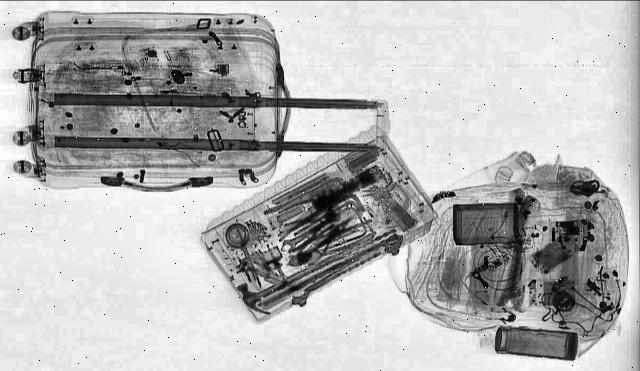Wrench: (274, 210, 348, 252)
